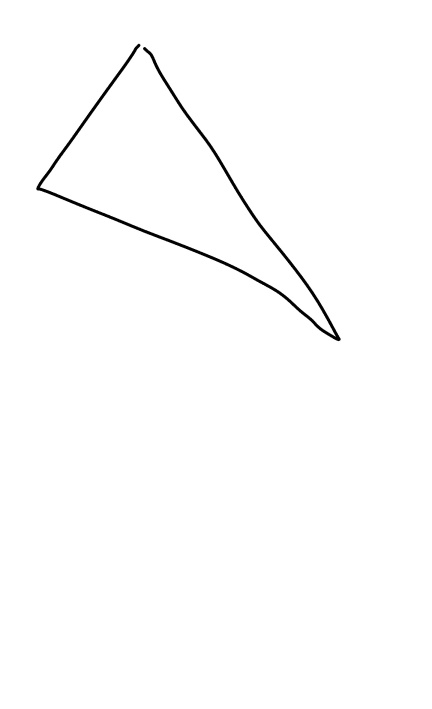Triangle: (28, 37, 351, 348)
